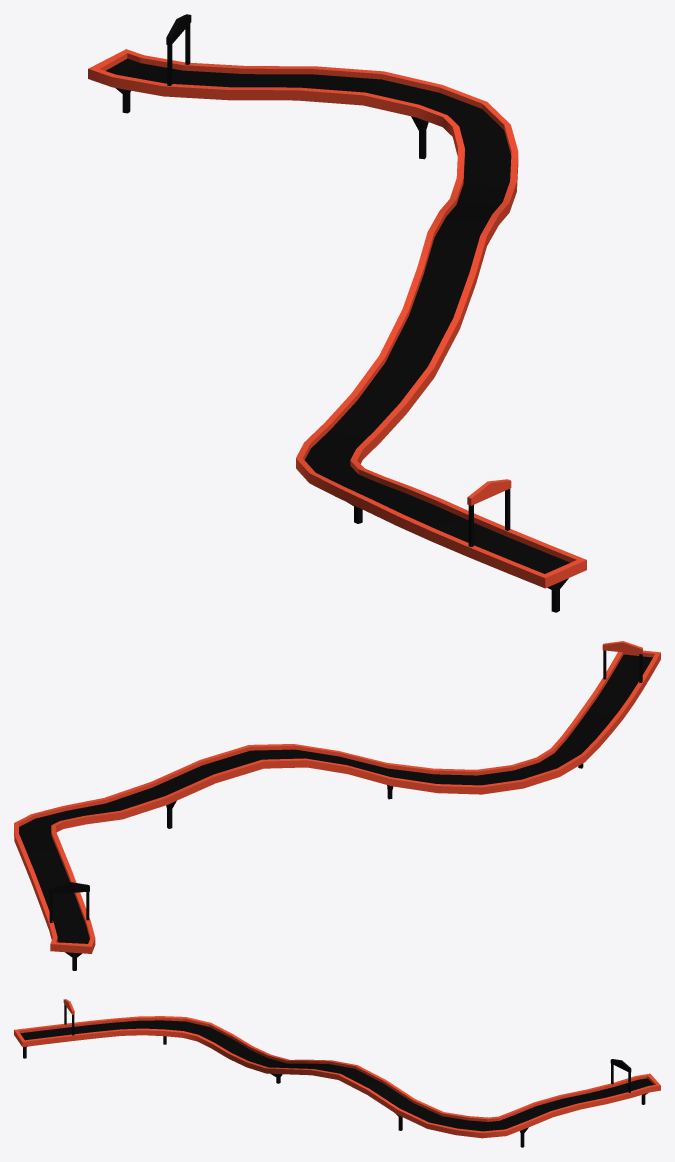
Rendered from Track_01.fbx.
3 renders of one model, top to bottom at view 1: azimuth 30°, elevation 25°; view 2: azimuth 150°, elevation 25°; view 3: azimuth 270°, elevation 25°, orthographic. The views are drawn at different scales.
Visible parts, largest first — view 1: Track_01; view 2: Track_01; view 3: Track_01.
Part boxes in pixels (x1=…): Track_01: x1=88, y1=14, x2=586, y2=612; Track_01: x1=14, y1=641, x2=660, y2=970; Track_01: x1=14, y1=999, x2=660, y2=1147.
Bounding box in the file's own units: 7644 × 1489 × 17190.
